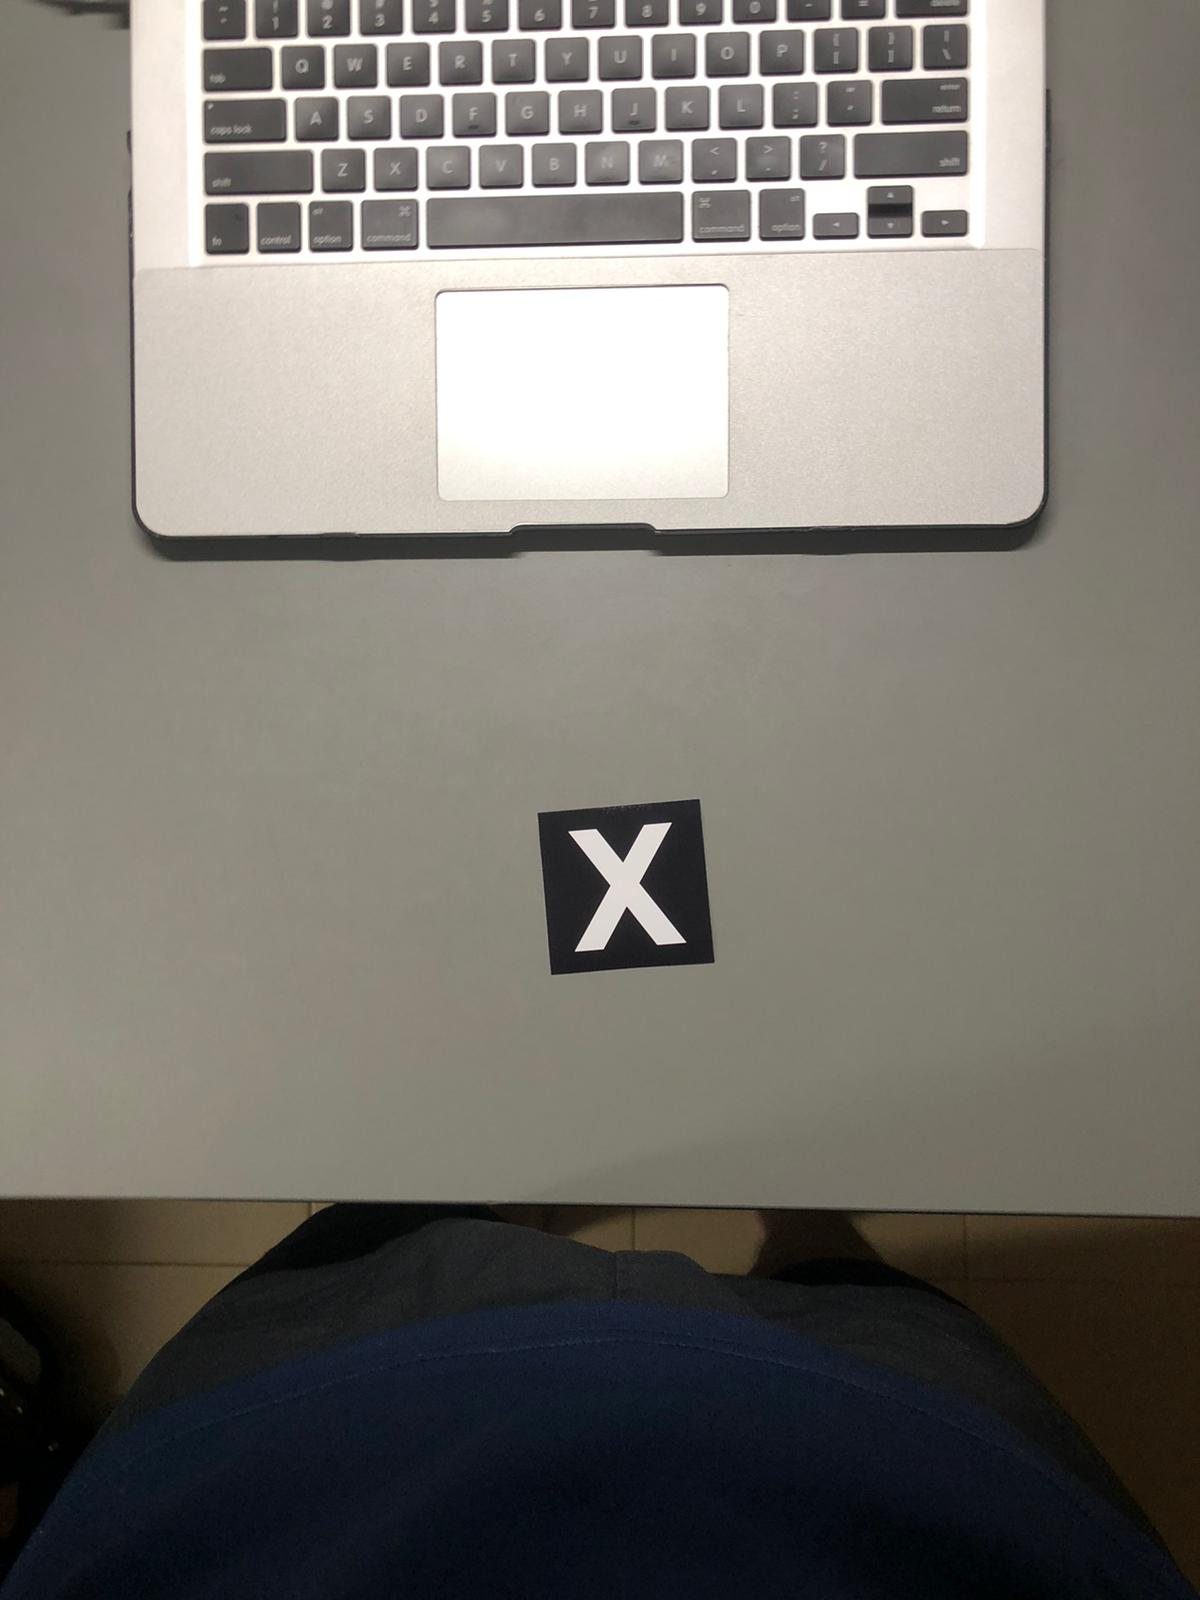X: (539, 813, 711, 976)
